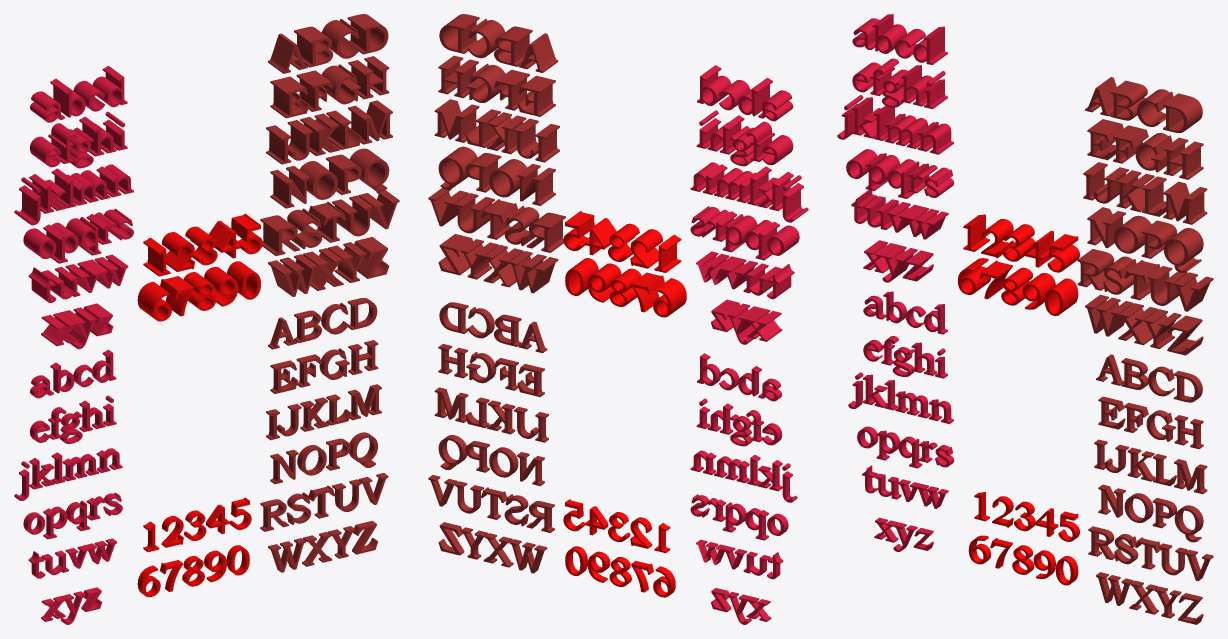
Rendered from uploads_files_4500293_Bookman+old+style.fbx.
3 renders of one model, left to right at view 1: azimuth 30°, elevation 25°; view 2: azimuth 150°, elevation 25°; view 3: azimuth 330°, elevation 25°, orthographic. The views are drawn at different scales.
Visible parts, largest first — view 1: ABCD_EFGH_IJKLM_2, abcd_efghi_jklmn2, ABCD_EFGH_IJKLM_1, abcd_efghi_jklmn1, G_12345_67890_1_2, G_12345_67890_1_1; view 2: ABCD_EFGH_IJKLM_2, abcd_efghi_jklmn2, ABCD_EFGH_IJKLM_1, abcd_efghi_jklmn1, G_12345_67890_1_2, G_12345_67890_1_1; view 3: ABCD_EFGH_IJKLM_2, abcd_efghi_jklmn2, ABCD_EFGH_IJKLM_1, abcd_efghi_jklmn1, G_12345_67890_1_2, G_12345_67890_1_1.
Boxes of the visible parts, bbox=[...] form: ABCD_EFGH_IJKLM_2: bbox=[260, 14, 399, 296]; abcd_efghi_jklmn2: bbox=[14, 66, 133, 349]; ABCD_EFGH_IJKLM_1: bbox=[260, 298, 388, 572]; abcd_efghi_jklmn1: bbox=[14, 349, 122, 624]; G_12345_67890_1_2: bbox=[137, 213, 262, 321]; G_12345_67890_1_1: bbox=[137, 497, 251, 597]; ABCD_EFGH_IJKLM_2: bbox=[428, 14, 565, 293]; abcd_efghi_jklmn2: bbox=[690, 65, 808, 344]; ABCD_EFGH_IJKLM_1: bbox=[428, 302, 554, 573]; abcd_efghi_jklmn1: bbox=[690, 353, 797, 624]; G_12345_67890_1_2: bbox=[563, 211, 686, 317]; G_12345_67890_1_1: bbox=[563, 499, 675, 597]; ABCD_EFGH_IJKLM_2: bbox=[1077, 77, 1213, 355]; abcd_efghi_jklmn2: bbox=[837, 14, 953, 282]; ABCD_EFGH_IJKLM_1: bbox=[1088, 354, 1213, 624]; abcd_efghi_jklmn1: bbox=[848, 291, 954, 551]; G_12345_67890_1_2: bbox=[958, 214, 1079, 315]; G_12345_67890_1_1: bbox=[968, 492, 1079, 585].
Bounding box in the file's own units: 1.43 × 2.02 × 0.105.
